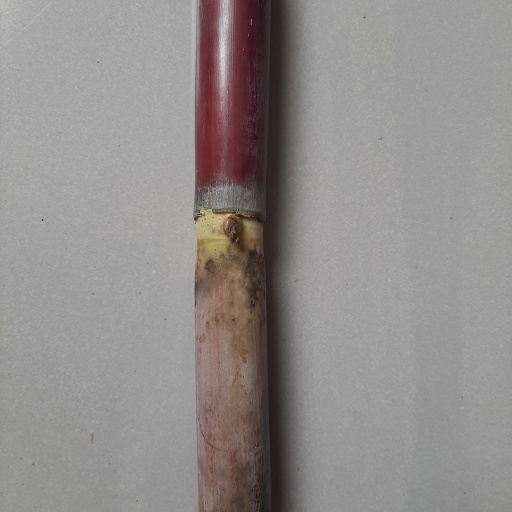Sprouted_Bud: (222, 215, 243, 247)
